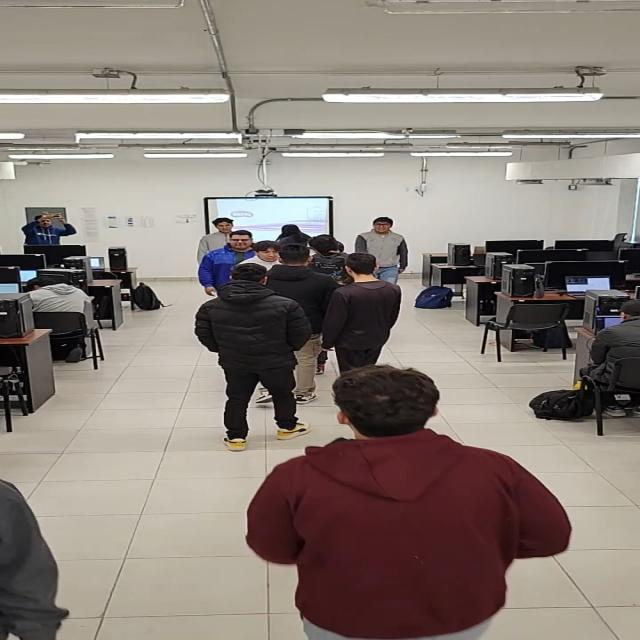Persona: (251, 370, 547, 632), (210, 266, 298, 407), (336, 251, 401, 369), (11, 206, 88, 256), (279, 249, 328, 317), (360, 217, 412, 277), (271, 215, 317, 253), (208, 232, 253, 262), (195, 215, 245, 236), (246, 242, 280, 269)
